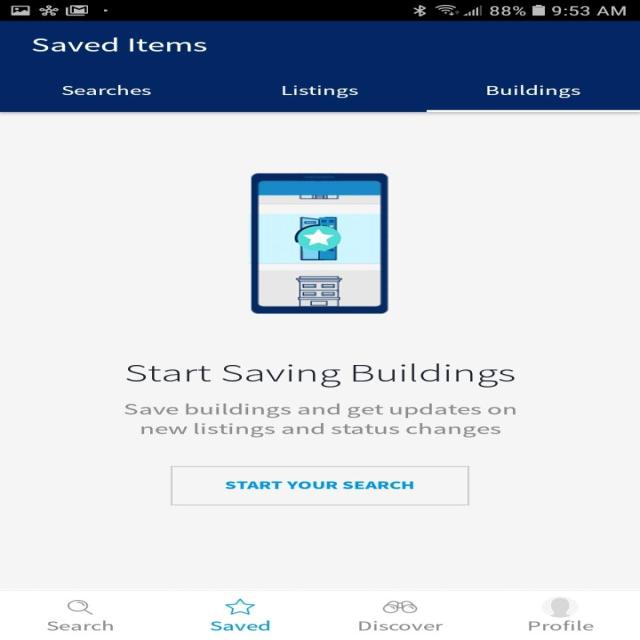Icon: (540, 596, 578, 618), (223, 598, 255, 615), (68, 599, 94, 615)
Image: (250, 172, 388, 314), (381, 600, 417, 613)
Text: (123, 402, 516, 438), (125, 363, 515, 387), (32, 37, 207, 52), (486, 85, 580, 98), (61, 84, 151, 96), (282, 85, 358, 98), (358, 620, 443, 631), (47, 620, 114, 630), (528, 620, 594, 630), (210, 620, 270, 630)
TextButton: (172, 466, 468, 505)
